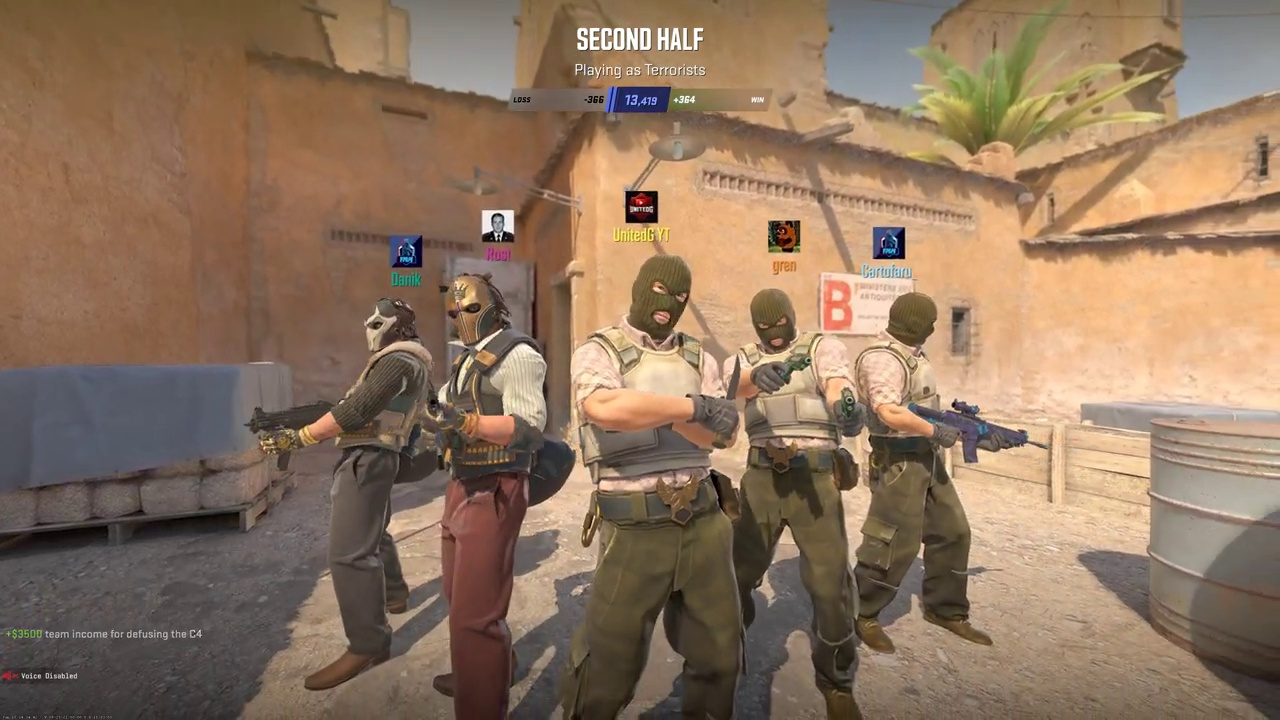Terrorist: (565, 256, 755, 714), (720, 287, 863, 714), (429, 273, 562, 719), (289, 297, 436, 691), (839, 292, 993, 646)
